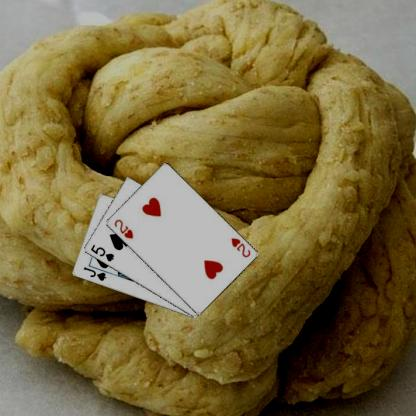2H: (228, 235, 251, 259), (111, 217, 134, 240)
5S: (88, 242, 115, 263)
JS: (81, 265, 107, 282)
